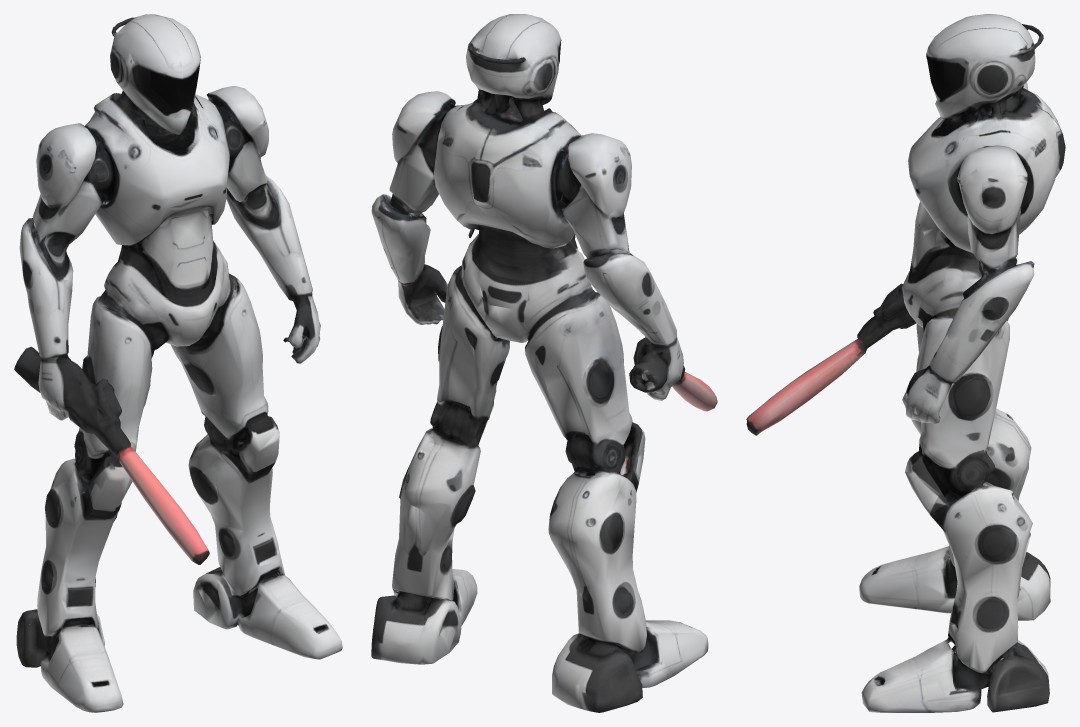
File: Pawn.fbx
3 renders of one model, left to right at view 1: azimuth 30°, elevation 25°; view 2: azimuth 150°, elevation 25°; view 3: azimuth 270°, elevation 25°, orthographic. The views are drawn at different scales.
Parts seen in each view (by area): view 1: Mesh_0; view 2: Mesh_0; view 3: Mesh_0.
Part boxes in pixels (x1,y1,x2,y2): Mesh_0: (14, 14, 342, 712); Mesh_0: (371, 14, 717, 712); Mesh_0: (746, 14, 1065, 712).
Size of the model in its own units: 93.78 by 200 by 91.7.
Materials: 1 (1 with a texture image).
